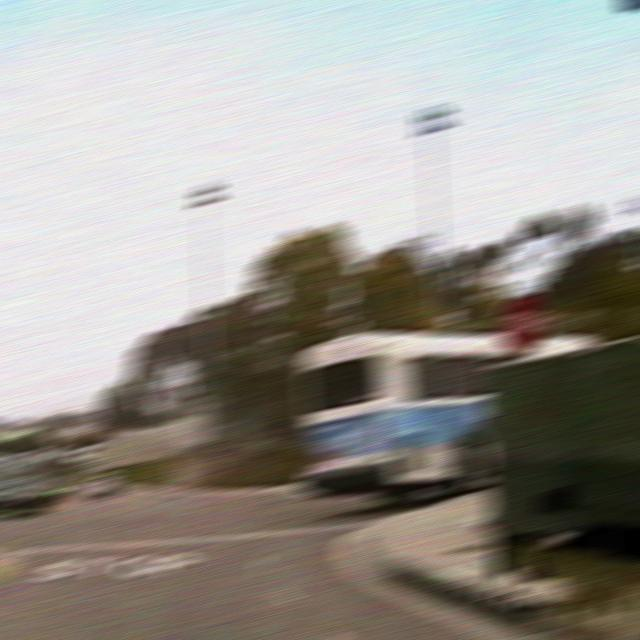stop_sign: (496, 293, 550, 351)
